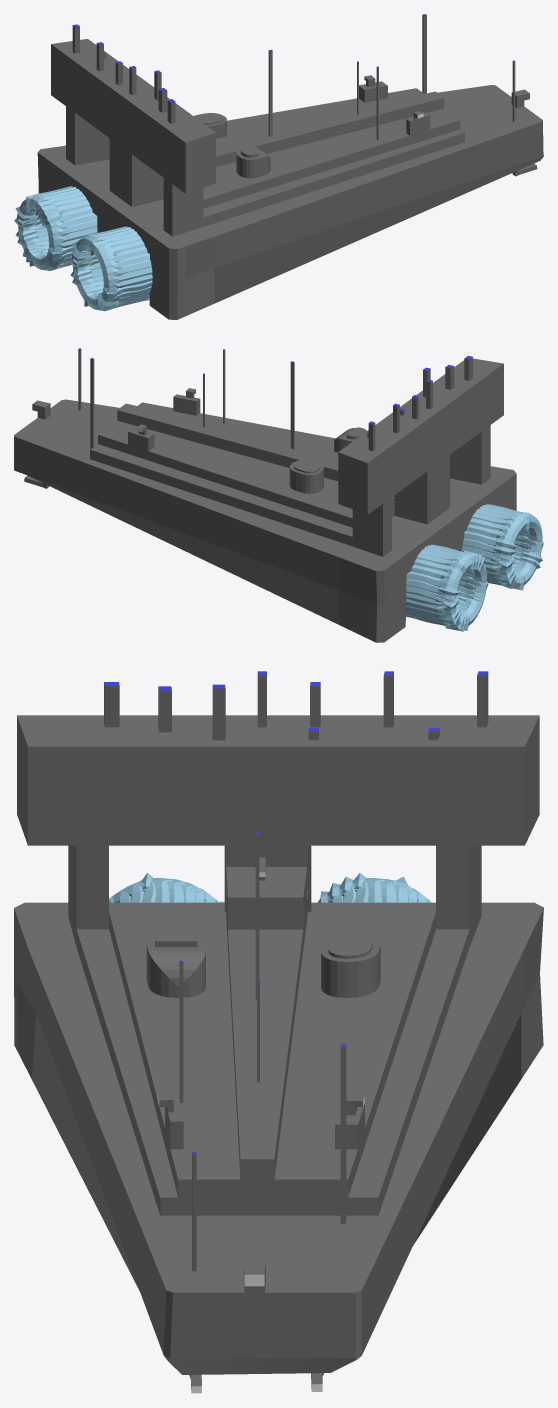
Rendered from Destructor.glb.
The picture shows the model from 3 angles, top to bottom: view 1: azimuth 30°, elevation 25°; view 2: azimuth 150°, elevation 25°; view 3: azimuth 270°, elevation 25°; orthographic projection. The views are drawn at different scales.
Parts seen in each view (by area): view 1: Cube, Cylinder, Cylinder.001; view 2: Cube, Cylinder.001, Cylinder; view 3: Cube, Cylinder.001, Cylinder.
Boxes of the visible parts, x1,y1,x2,y2 form: Cube: [37, 14, 543, 319]; Cylinder: [69, 226, 152, 311]; Cylinder.001: [14, 186, 97, 270]; Cube: [14, 348, 516, 642]; Cylinder.001: [406, 544, 488, 631]; Cylinder: [462, 504, 543, 590]; Cube: [14, 671, 543, 1393]; Cylinder.001: [318, 873, 431, 902]; Cylinder: [109, 873, 224, 902].
Bounding box in the file's own units: 7.14 × 3.05 × 3.65.
